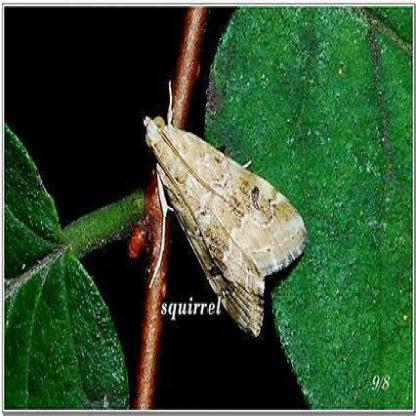Hellula undalis: (140, 69, 315, 340)
